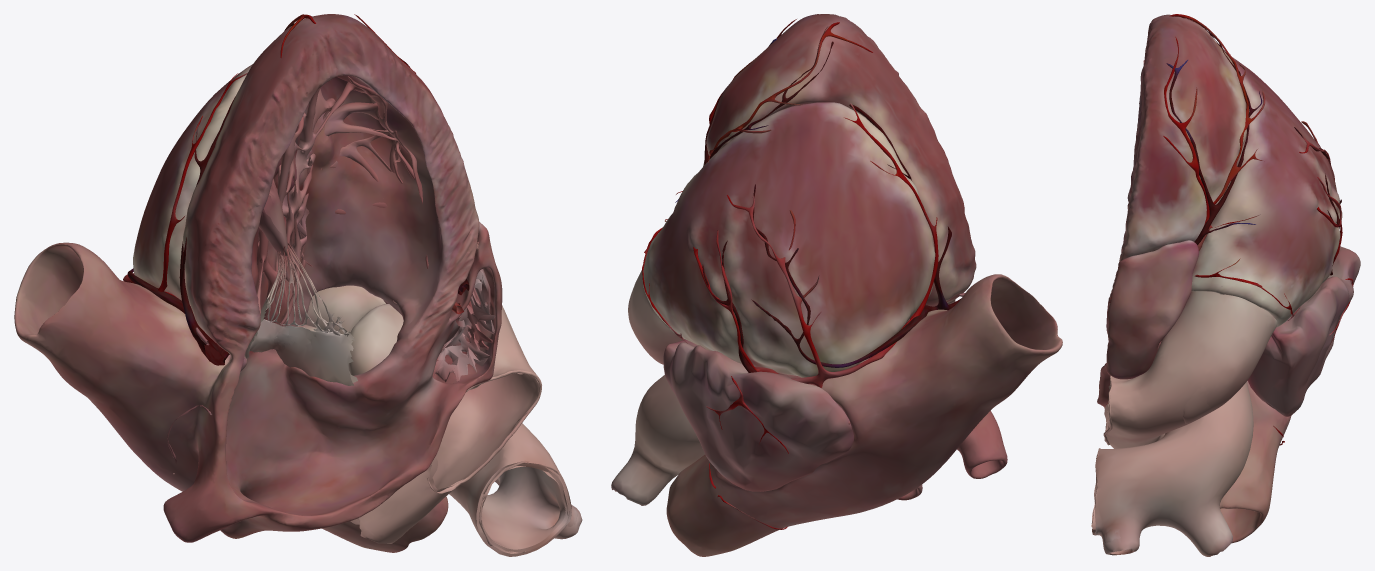
Rendered from cardiac_anatomy_apical_2_chamber_echo_plane.glb.
3 renders of one model, left to right at view 1: azimuth 30°, elevation 25°; view 2: azimuth 150°, elevation 25°; view 3: azimuth 270°, elevation 25°, orthographic. The views are drawn at different scales.
Visible parts, largest first — view 1: Object_15, Object_14, Object_13, Object_11, Object_8, Object_3, Object_6, Object_12, Object_4; view 2: Object_15, Object_14, Object_5, Object_13, Object_12; view 3: Object_14, Object_15, Object_13, Object_5, Object_12.
Boxes of the visible parts, x1,y1,x2,y2 form: Object_15: (14, 14, 502, 552); Object_14: (133, 64, 541, 543); Object_13: (123, 14, 582, 556); Object_11: (257, 76, 428, 326); Object_8: (244, 243, 357, 385); Object_3: (263, 195, 403, 375); Object_6: (432, 269, 495, 382); Object_12: (127, 15, 469, 365); Object_4: (258, 178, 287, 256); Object_15: (666, 14, 1062, 556); Object_14: (628, 102, 935, 377); Object_5: (663, 339, 853, 491); Object_13: (611, 19, 965, 529); Object_12: (675, 27, 961, 372); Object_14: (1103, 57, 1342, 448); Object_15: (1097, 14, 1291, 543); Object_13: (1091, 14, 1353, 556); Object_5: (1247, 246, 1360, 416); Object_12: (1166, 17, 1341, 275).
Size of the model in its own units: 140 by 155 by 78.23.
